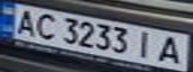2: (75, 18, 96, 50)
3: (57, 15, 81, 46), (112, 25, 133, 55), (93, 21, 112, 53)
A: (154, 34, 187, 65), (9, 7, 42, 36)
C: (30, 11, 60, 42)
I: (133, 29, 160, 60)
